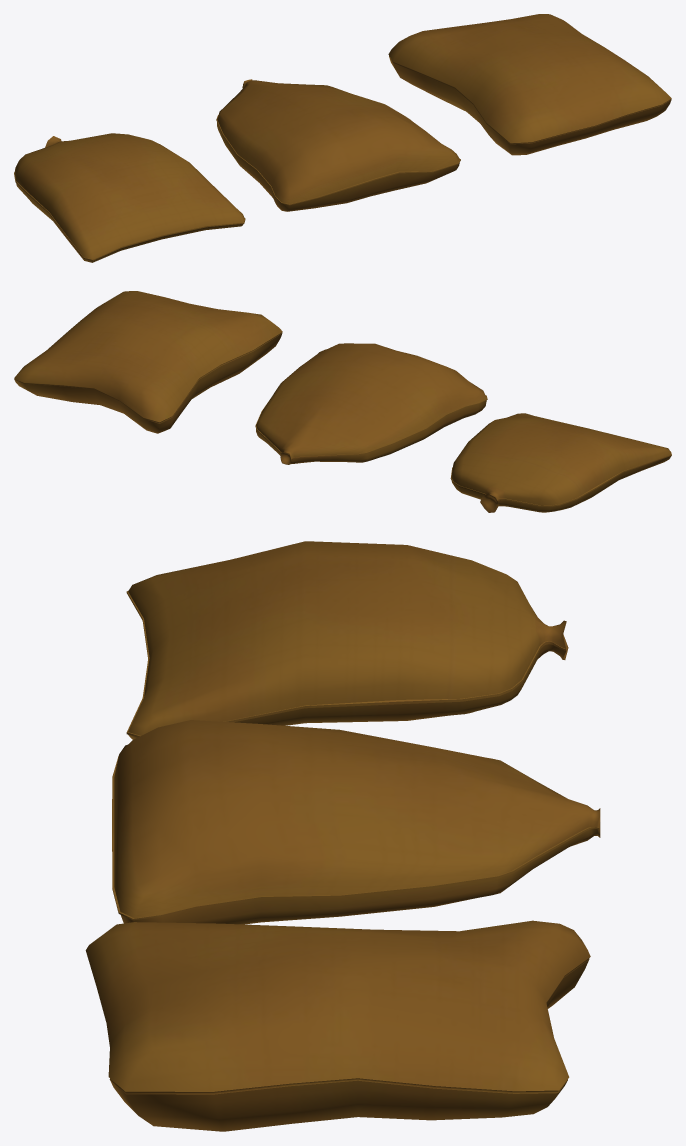
The model's file is Sacos.fbx.
The picture shows the model from 3 angles, top to bottom: view 1: azimuth 30°, elevation 25°; view 2: azimuth 150°, elevation 25°; view 3: azimuth 270°, elevation 25°; orthographic projection. The views are drawn at different scales.
Visible parts, largest first — view 1: SacoV3, SacoV2, SacoV1; view 2: SacoV3, SacoV2, SacoV1; view 3: SacoV3, SacoV2, SacoV1.
Part boxes in pixels (x1,y1,x2,y2): SacoV3: (388, 14, 671, 155); SacoV2: (216, 79, 460, 211); SacoV1: (14, 133, 245, 262); SacoV3: (14, 291, 282, 433); SacoV2: (255, 343, 487, 464); SacoV1: (450, 413, 671, 512); SacoV3: (85, 920, 590, 1131); SacoV2: (112, 720, 600, 924); SacoV1: (126, 541, 568, 739).
Bounding box in the file's own units: 204 × 22.55 × 81.29.
